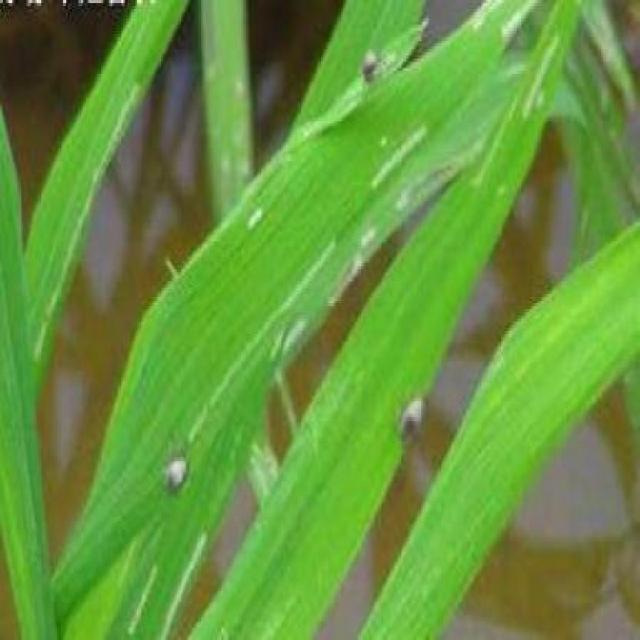rice-bug: (394, 384, 431, 445), (166, 448, 188, 492), (359, 47, 381, 84)
